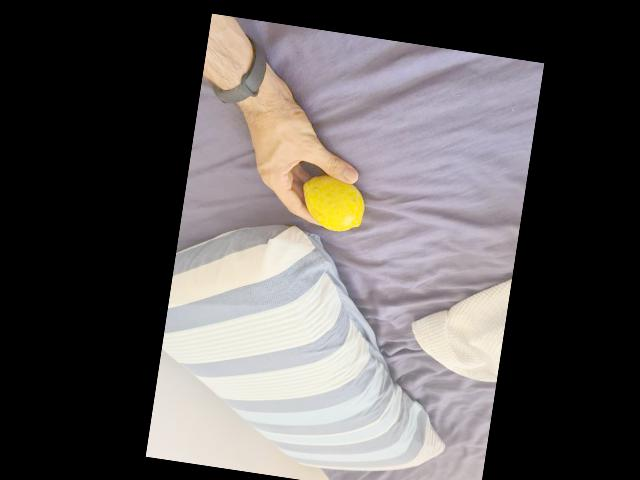lemon: (297, 170, 371, 233)
